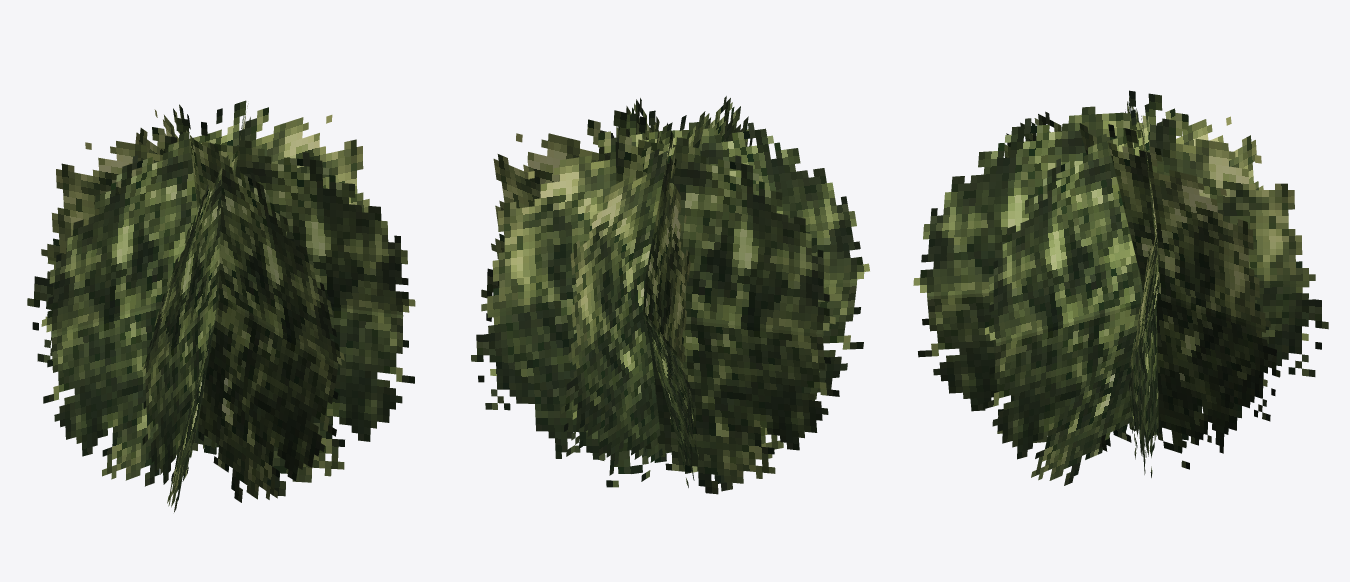
File: Bush.fbx
The picture shows the model from 3 angles, left to right: view 1: azimuth 30°, elevation 25°; view 2: azimuth 150°, elevation 25°; view 3: azimuth 270°, elevation 25°; orthographic projection.
Visible parts, largest first — view 1: Bush; view 2: Bush; view 3: Bush.
Part boxes in pixels (x1,y1,x2,y2): Bush: (27, 100, 415, 512); Bush: (471, 96, 869, 494); Bush: (913, 90, 1328, 485).
Size of the model in its own units: 115 by 117 by 114.
Materials: 1 (1 with a texture image).
